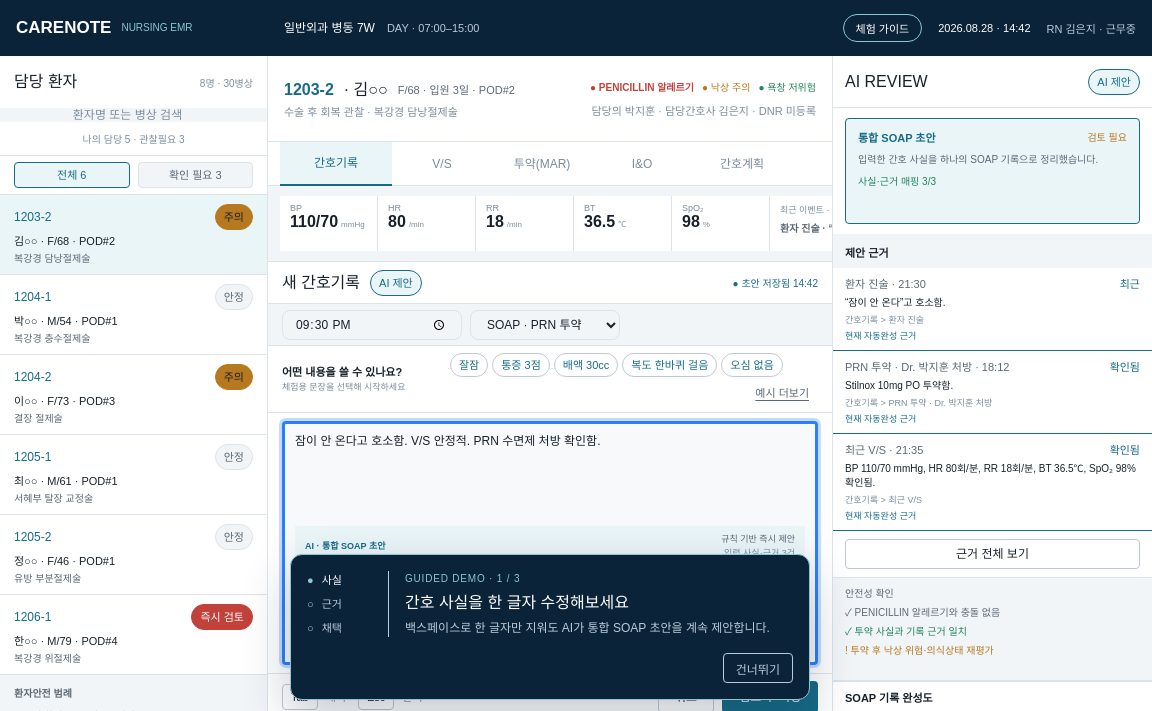
Test: ChartingWorkspace input-grounded AI suggestions › shows an immediate input-aware SOAP and a separate prior-record conflict warning
Replace the text in the text box named "간호 사실 입력" with "잘잠": [550, 474] box [283,422,817,526]
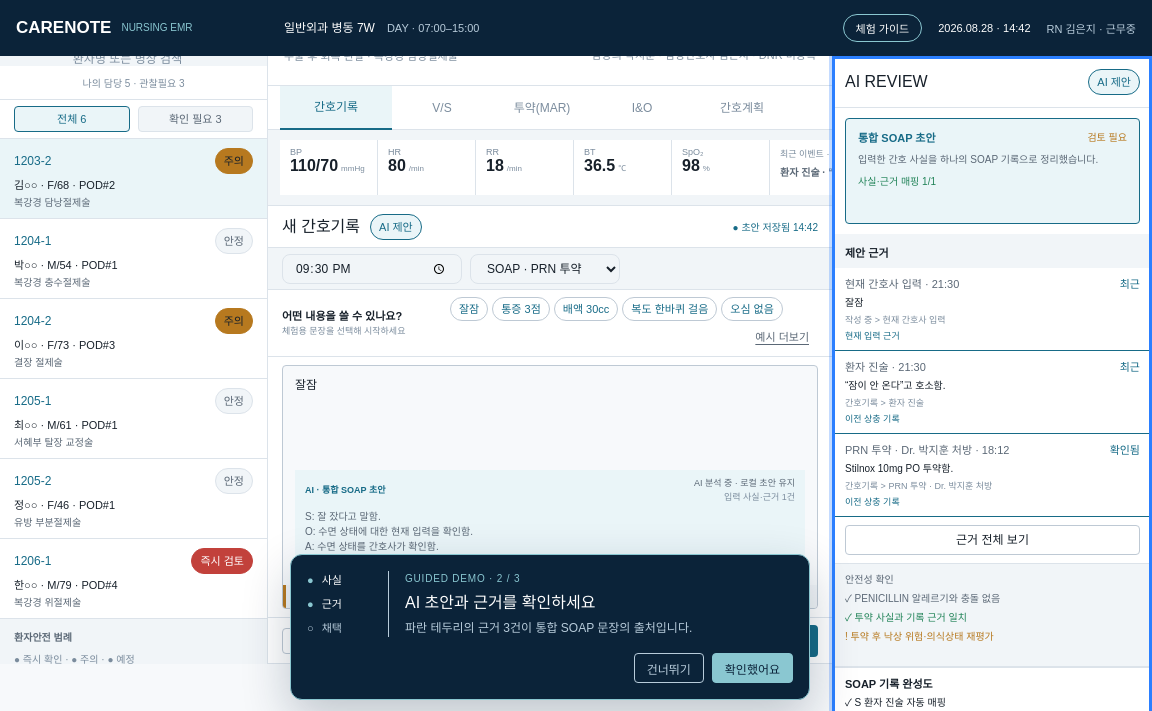
Expected: the text "AI 분석 중 · 로컬 초안 유지" is shown, [694,476,795,490]
Expected: the element named "활성 통합 SOAP 제안" shows "S: 잘 잤다고 말함.", [305,511,484,567]
Expected: the element named "현재 간호사 입력 21:30 근거" shows "현재 입력 근거", [845,331,900,341]
